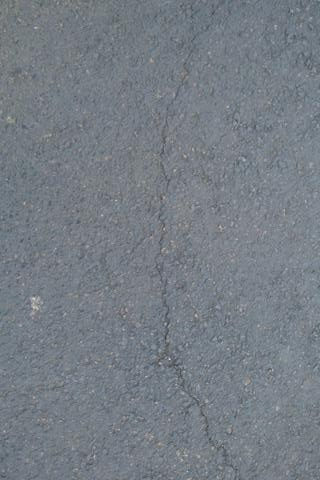A: (158, 4, 240, 480)
